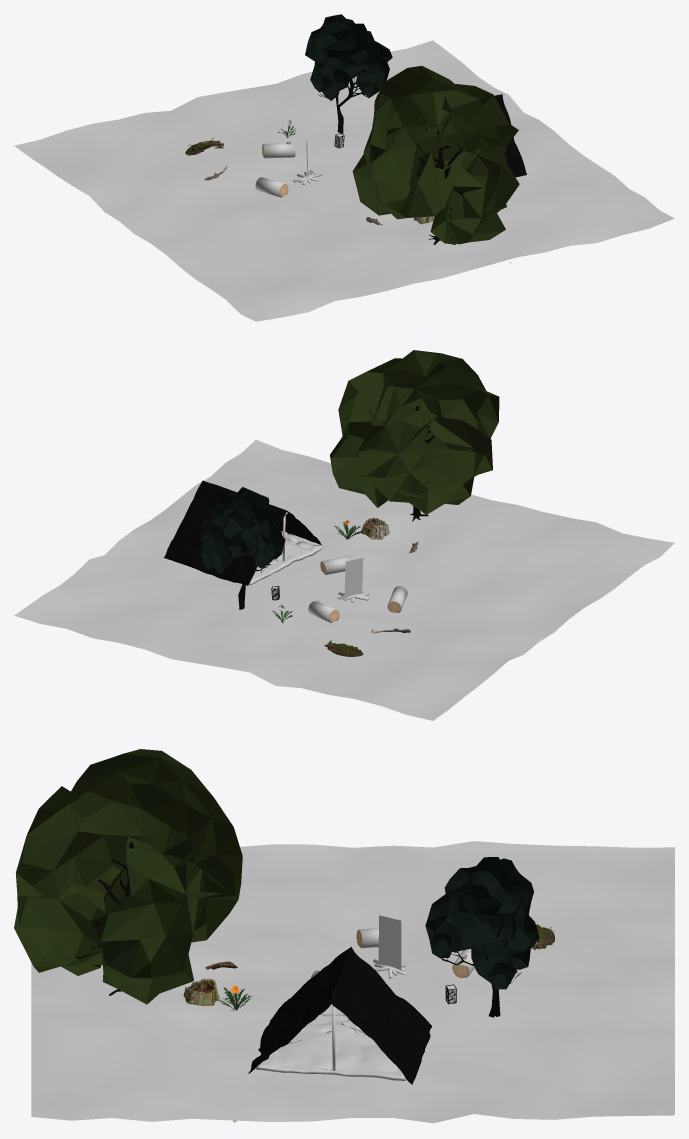
File: camping.obj
3 renders of one model, top to bottom at view 1: azimuth 30°, elevation 25°; view 2: azimuth 150°, elevation 25°; view 3: azimuth 270°, elevation 25°, orthographic. The views are drawn at different scales.
Parts seen in each view (by area): view 1: ground_Plane, tree2_Sc_deciduous_07.003_proxy, tree1_Sc_conifer_01.004_proxy, tent1_Plane.005, wood2_Cylinder.007; view 2: ground_Plane, tree2_Sc_deciduous_07.003_proxy, tree1_Sc_conifer_01.004_proxy, tent2_Plane.009, Plane.005_Plane.007, Animated_Fire_Plane.017, tent1_Plane.005; view 3: ground_Plane, tree2_Sc_deciduous_07.003_proxy, tree1_Sc_conifer_01.004_proxy, tent2_Plane.009, Plane.005_Plane.007, tent1_Plane.005, Animated_Fire_Plane.017, brokentree_Aset_tree_stump_M_qdyf7_LOD0.
Boxes of the visible parts, box(x1,y1,x2,y2) form: ground_Plane: box(14, 40, 674, 321); tree2_Sc_deciduous_07.003_proxy: box(352, 66, 519, 244); tree1_Sc_conifer_01.004_proxy: box(305, 14, 392, 133); tent1_Plane.005: box(494, 94, 526, 177); wood2_Cylinder.007: box(262, 143, 294, 158); ground_Plane: box(14, 440, 674, 720); tree2_Sc_deciduous_07.003_proxy: box(330, 350, 499, 521); tree1_Sc_conifer_01.004_proxy: box(201, 487, 285, 609); tent2_Plane.009: box(164, 480, 286, 585); Plane.005_Plane.007: box(249, 530, 323, 584); Animated_Fire_Plane.017: box(344, 558, 363, 598); tent1_Plane.005: box(211, 483, 321, 544); ground_Plane: box(31, 841, 674, 1123); tree2_Sc_deciduous_07.003_proxy: box(14, 749, 242, 1004); tree1_Sc_conifer_01.004_proxy: box(425, 857, 539, 1017); tent2_Plane.009: box(331, 947, 431, 1084); Plane.005_Plane.007: box(256, 1014, 429, 1080); tent1_Plane.005: box(248, 946, 351, 1073); Animated_Fire_Plane.017: box(378, 915, 401, 970); brokentree_Aset_tree_stump_M_qdyf7_LOD0: box(183, 978, 220, 1006).
Bounding box in the file's own units: 11.67 × 5.5 × 11.98.
Materials: 32 (5 with a texture image).
